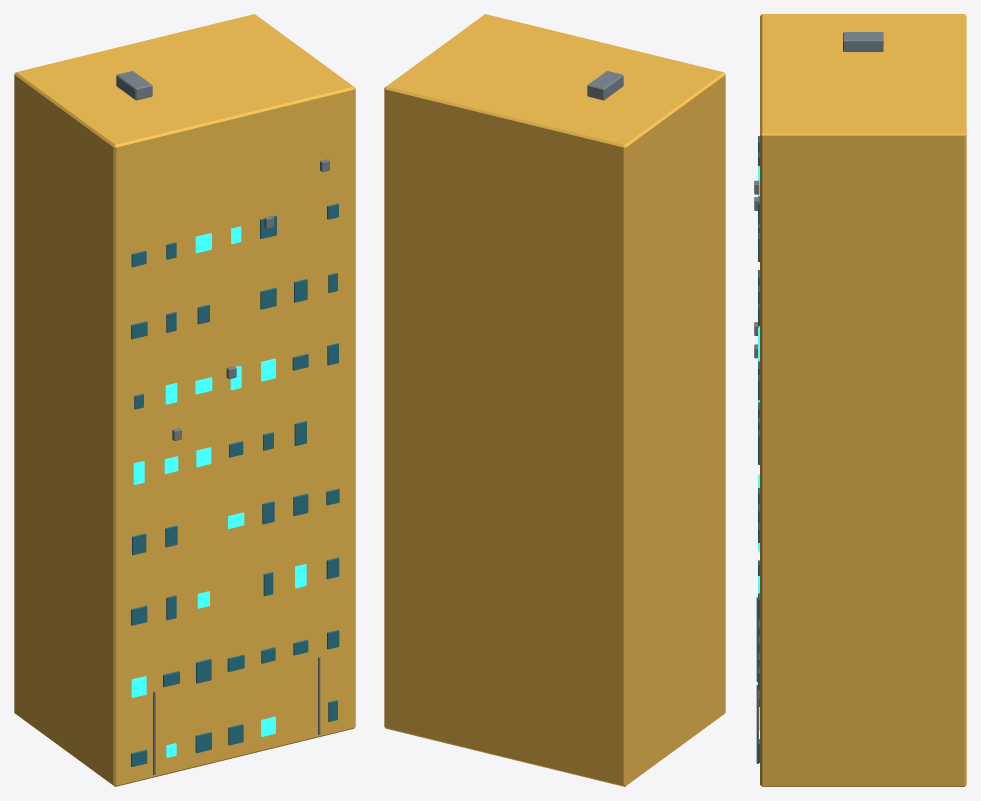
File: building_002_seed100.glb
3 renders of one model, left to right at view 1: azimuth 30°, elevation 25°; view 2: azimuth 150°, elevation 25°; view 3: azimuth 270°, elevation 25°, orthographic.
Visible parts, largest first — view 1: building_002_seed100; view 2: building_002_seed100; view 3: building_002_seed100.
Part boxes in pixels (<box>): building_002_seed100: <box>14,14,355,786</box>; building_002_seed100: <box>384,14,725,786</box>; building_002_seed100: <box>754,14,966,786</box>.
Size of the model in its own units: 10.46 by 26.97 by 7.78.
